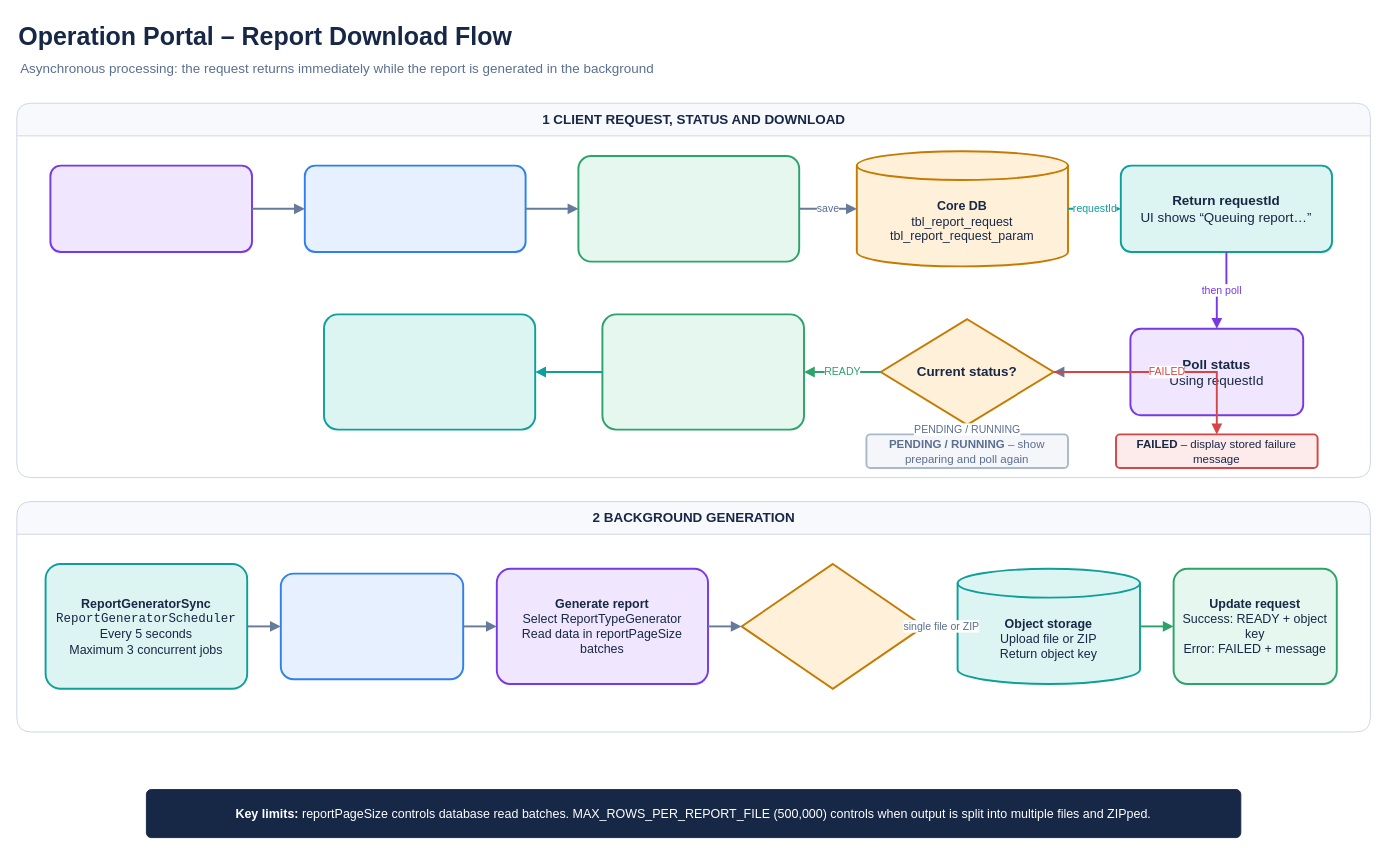
This 1387x854 diagram has some shape labels left out. The centre of each missing label's shape, as x and y in pixels:
"Claim oldest request PENDING → RUNNING Start heartbeat" belongs at [371,626].
"Create NEW request No report reuse Status = PENDING" belongs at [688,208].
"Download report Browser downloads directly from object storage" belongs at [429,371].
"More than 500,000 rows? Split into parts and create ZIP" belongs at [832,626].
"Portal UI Select filters and file format" belongs at [150,208].
"READY Generate time-limited pre-signed URL" belongs at [702,371].
"Report API Validate report type, filters, and format" belongs at [414,208].
